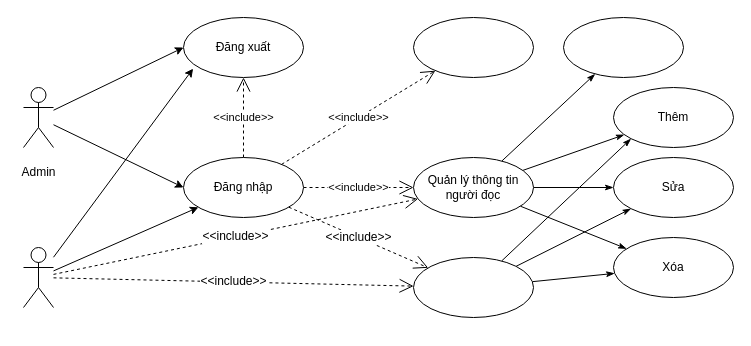
This 751x346 diagram has some shape labels left out. Each missing label, with the centre of its shape:
Quản lý lịch sử mượn sách: (623,47)
Quản lý thông tin sách: (473,287)
Quản lý tài khoản: (473,47)
Thủ thư: (38,277)
